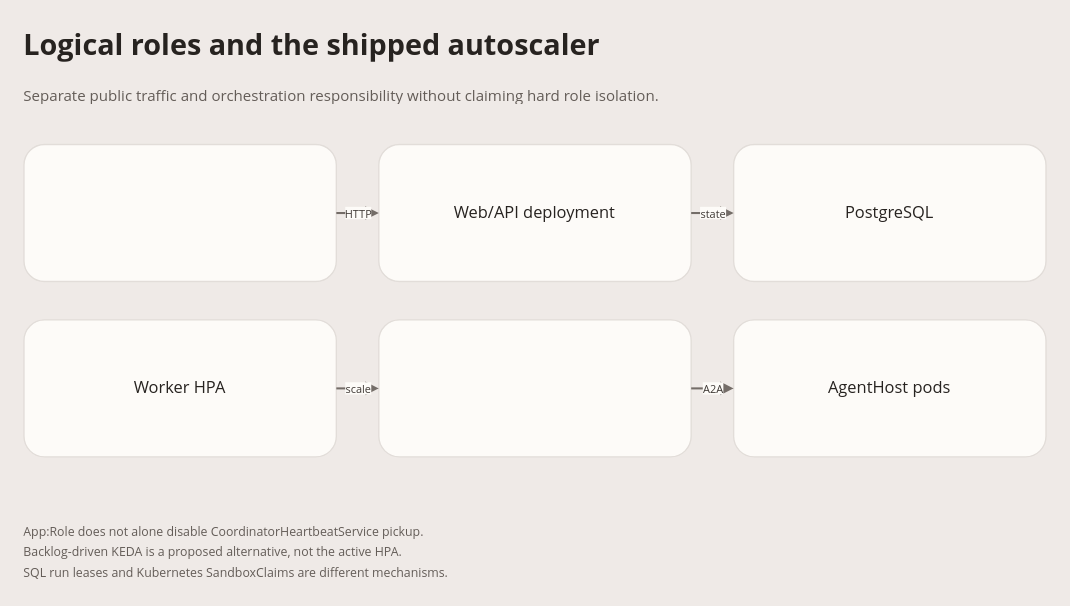
Image size: 1070x606. Some labels were removed from this diagram. The shapes that lost their labels are listed below. From the top down, each one's box as (x1, y1, x2, y2) in pixels, then its label:
(23, 143, 336, 282): Clients
(377, 319, 691, 457): Worker deployment
